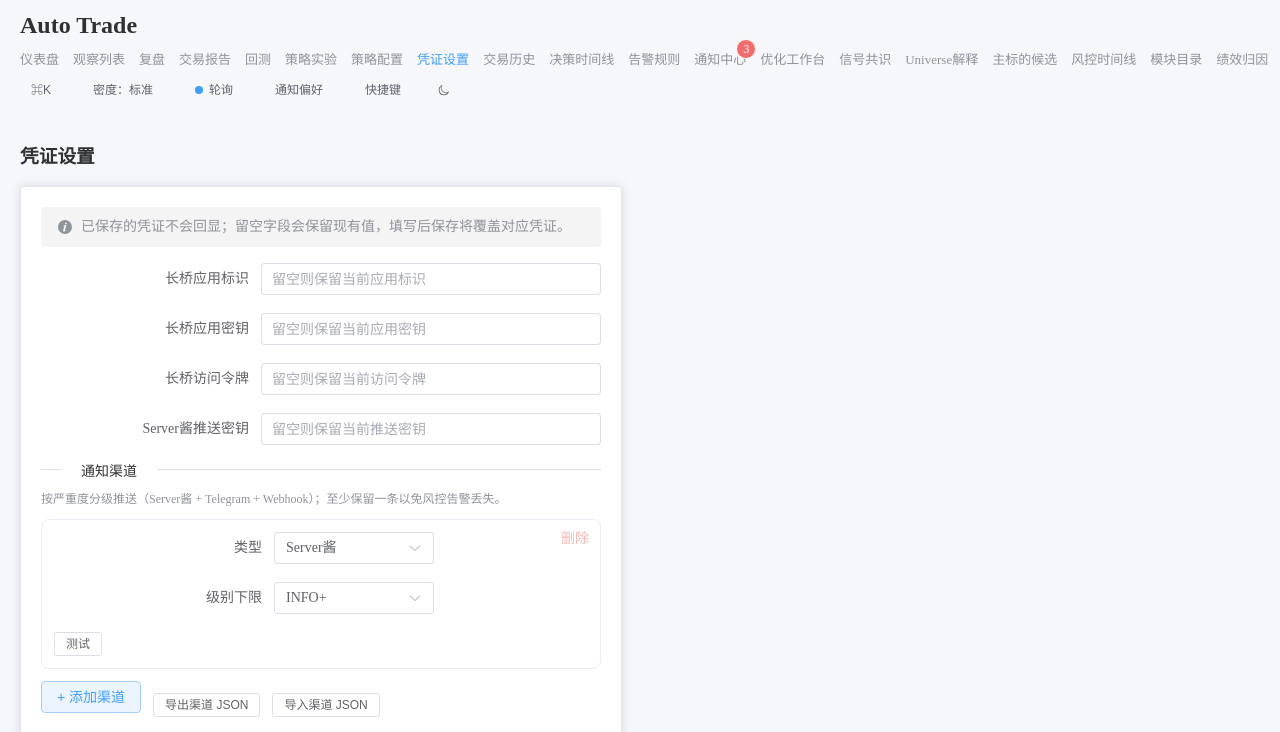
Test case: Credentials Notification Channel Test › sends a single channel test and shows success
Click the button with test id "channel-test-btn": {"x": 78, "y": 644} [54,632,102,656]
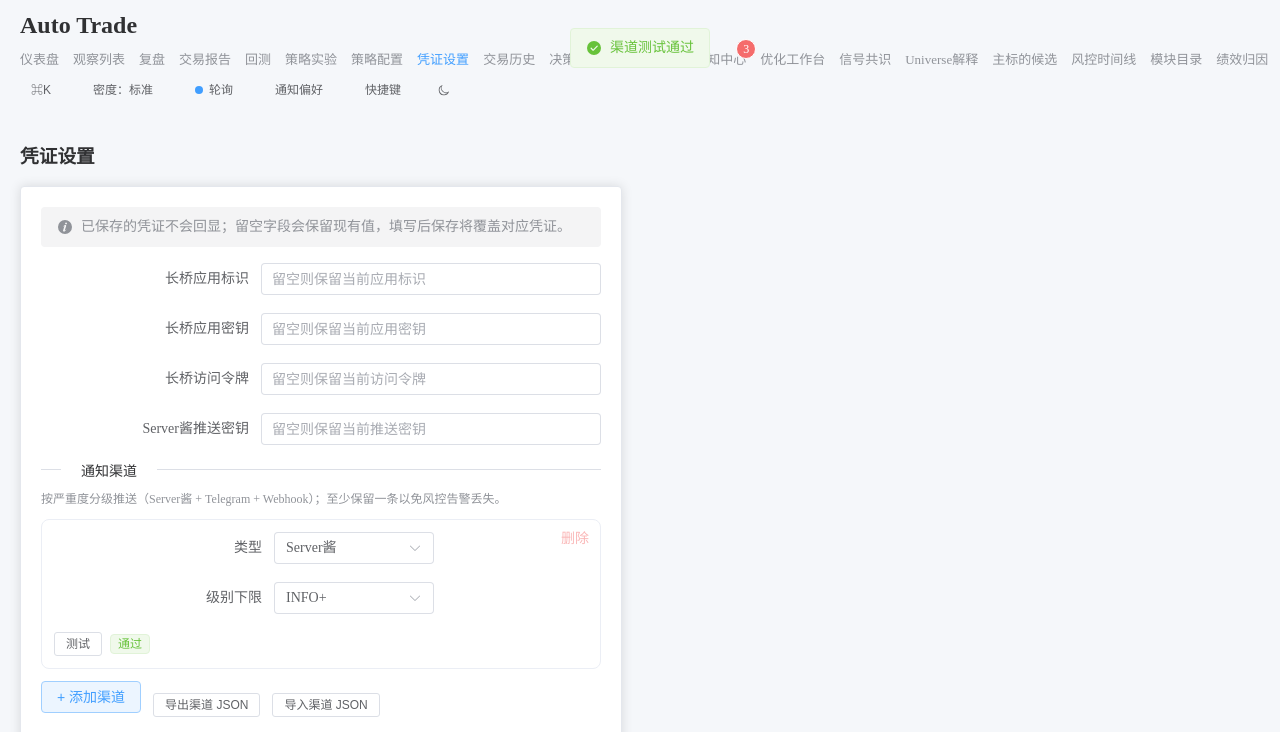
Now the element with test id "channel-test-success" is shown, box [110,634,150,654]
